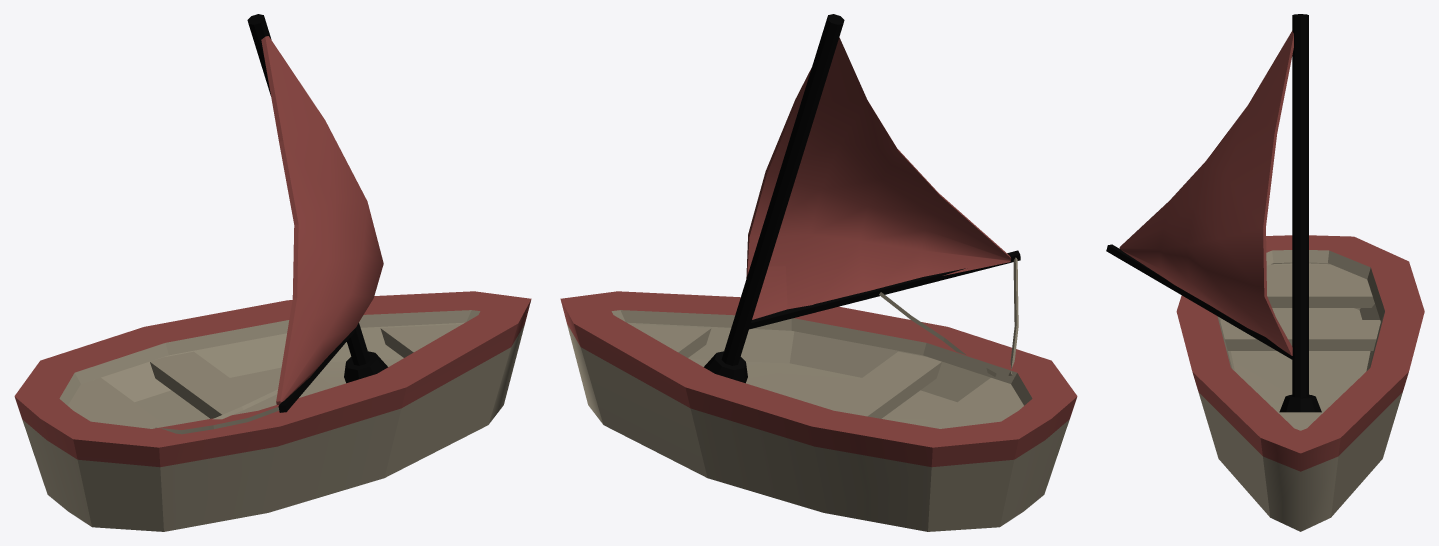
Rendered from grey ship mesh.fbx.
3 views of the same model, side by side, from view 1: azimuth 30°, elevation 25°; view 2: azimuth 150°, elevation 25°; view 3: azimuth 270°, elevation 25° (orthographic). The views are drawn at different scales.
Visible parts, largest first — view 1: ship03; view 2: ship03; view 3: ship03.
Part boxes in pixels (x1=…): ship03: x1=14, y1=14, x2=531, y2=531; ship03: x1=560, y1=14, x2=1077, y2=531; ship03: x1=1106, y1=14, x2=1424, y2=531.
Size of the model in its own units: 236 by 206 by 146.
